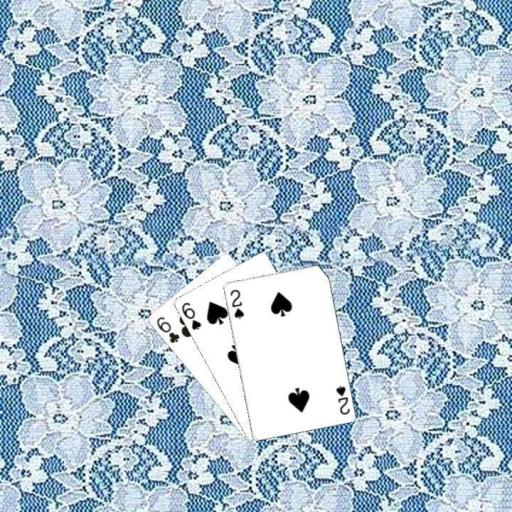card-corner: (153, 313, 181, 345), (178, 299, 202, 331), (227, 286, 245, 320), (333, 382, 351, 416)
